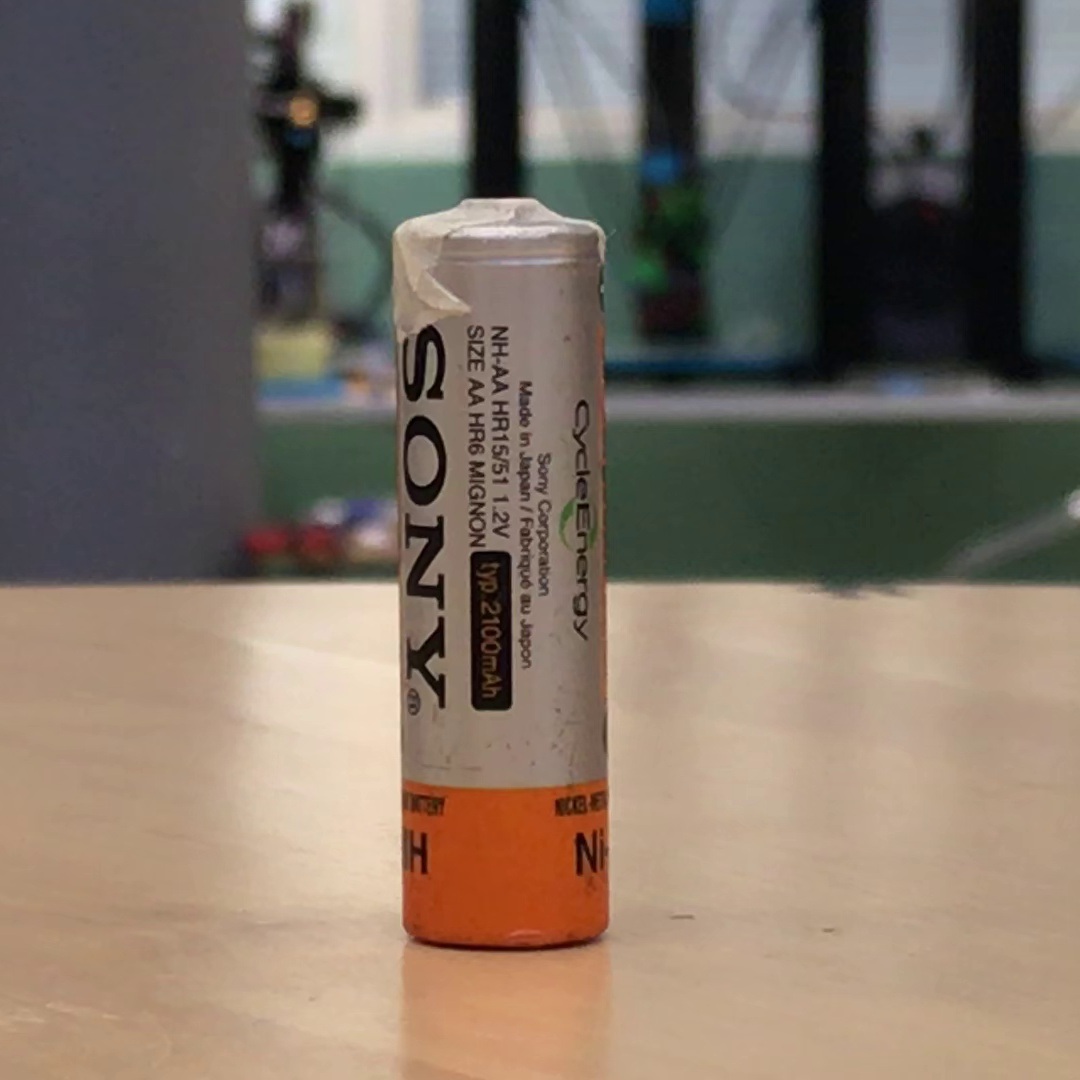keyword: (482, 485, 520, 549), (458, 403, 496, 466)
